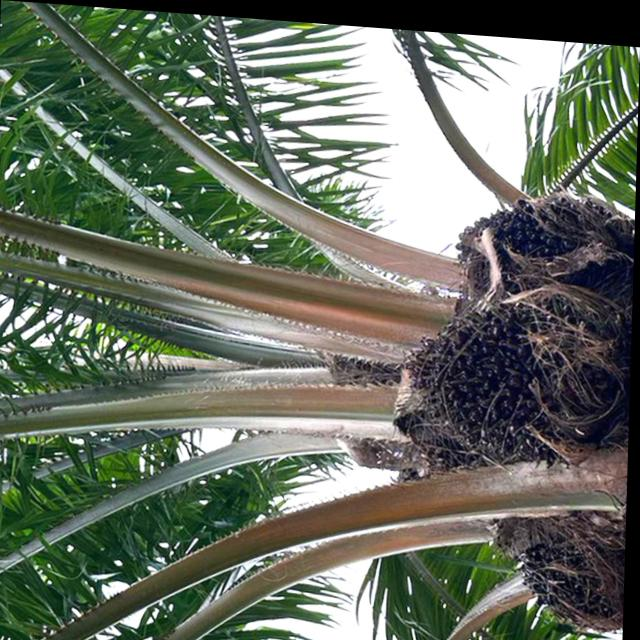almost: (409, 287, 626, 464), (448, 179, 626, 290), (518, 515, 617, 622)
